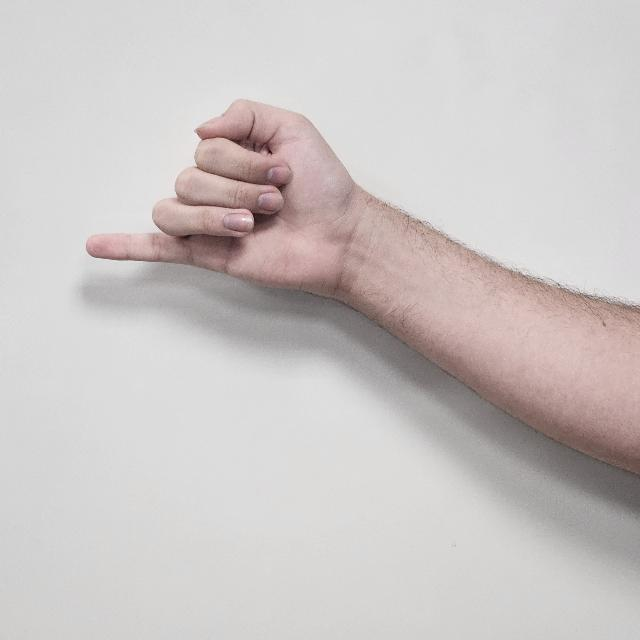Esquerda: (70, 90, 364, 342)
